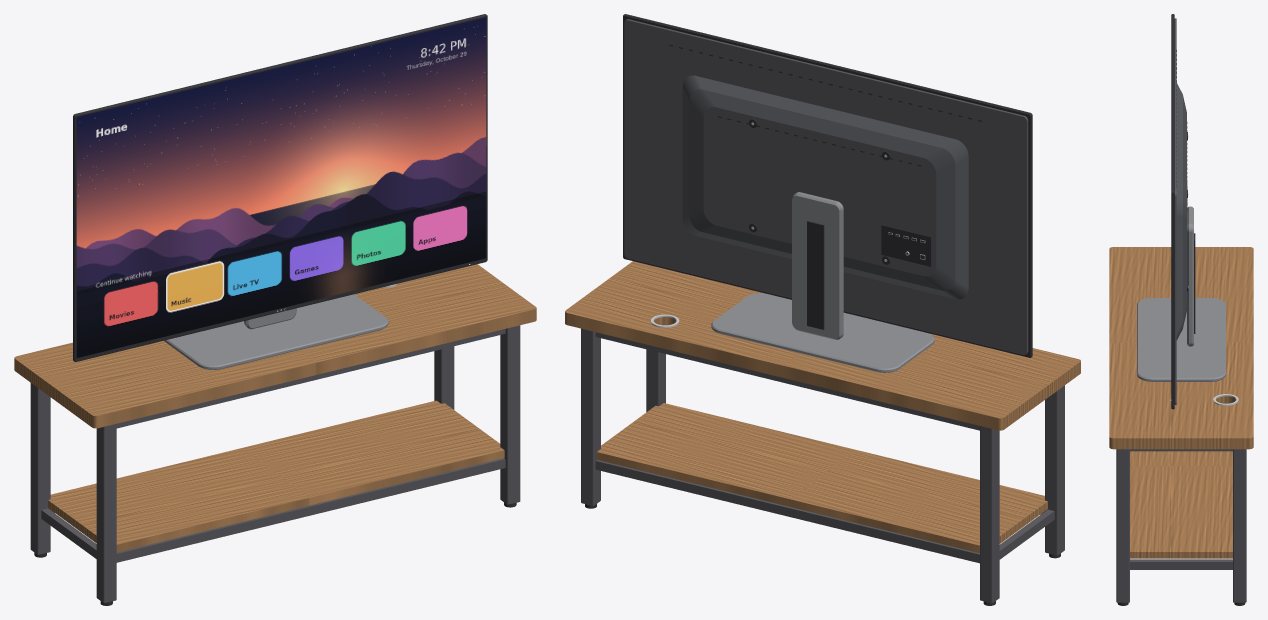
File: tv_on_2_mattress_tall_stand.glb
3 views of the same model, side by side, from view 1: azimuth 30°, elevation 25°; view 2: azimuth 150°, elevation 25°; view 3: azimuth 270°, elevation 25° (orthographic). The views are drawn at different scales.
Parts seen in each view (by area): view 1: tv_screen, stand_shelf, stand_top, stand_steelbk, tv_stand, tv_tvblk; view 2: tv_tvback, stand_shelf, stand_top, stand_steelbk, tv_stand, tv_tvblk; view 3: stand_top, stand_shelf, tv_stand, stand_steelbk, tv_tvback, tv_tvblk.
Part boxes in pixels (x1=…): tv_screen: x1=76, y1=17, x2=486, y2=357; stand_shelf: x1=48, y1=400, x2=504, y2=552; stand_top: x1=14, y1=264, x2=536, y2=428; stand_steelbk: x1=30, y1=325, x2=520, y2=603; tv_stand: x1=164, y1=294, x2=388, y2=369; tv_tvblk: x1=73, y1=14, x2=487, y2=361; tv_tvback: x1=624, y1=19, x2=1028, y2=354; stand_shelf: x1=596, y1=403, x2=1047, y2=552; stand_top: x1=565, y1=261, x2=1080, y2=430; stand_steelbk: x1=581, y1=328, x2=1064, y2=603; tv_stand: x1=711, y1=192, x2=934, y2=372; tv_tvblk: x1=623, y1=14, x2=1032, y2=357; stand_top: x1=1109, y1=247, x2=1253, y2=449; stand_shelf: x1=1130, y1=451, x2=1232, y2=558; tv_stand: x1=1137, y1=206, x2=1225, y2=381; stand_steelbk: x1=1116, y1=449, x2=1246, y2=602; tv_tvback: x1=1174, y1=18, x2=1186, y2=404; tv_tvblk: x1=1171, y1=14, x2=1195, y2=409.
Size of the model in its own units: 1.32 by 1.33 by 0.42.
10 materials, 3 textured.
